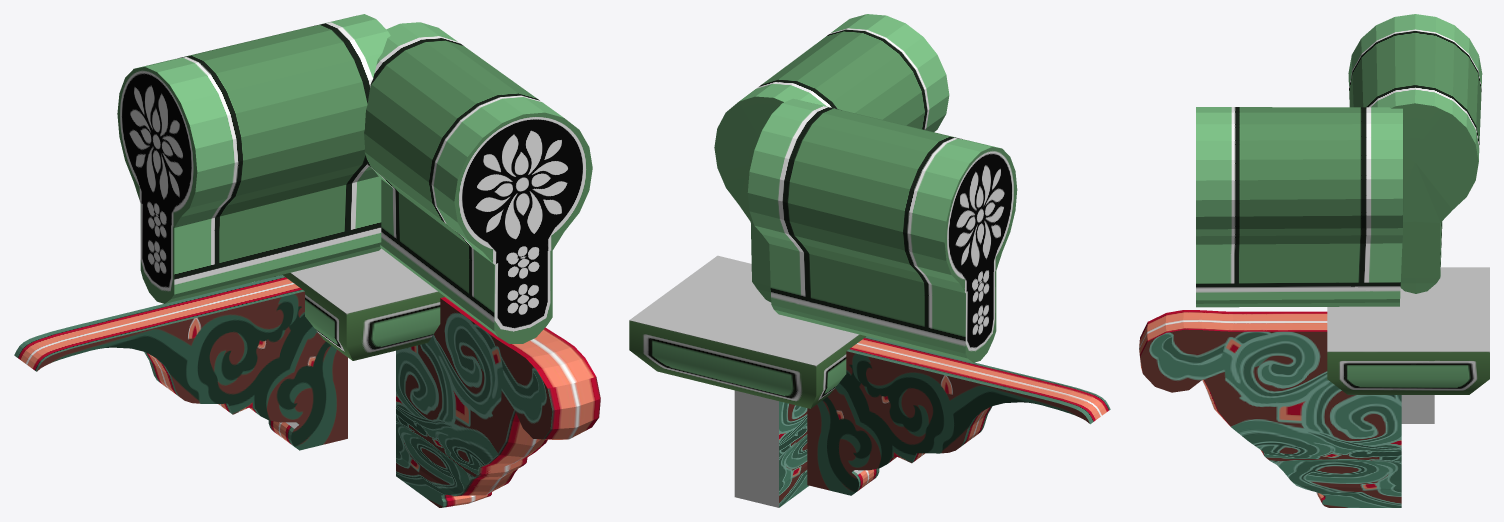
The model's file is SM_R_DancheongCorner_9.fbx.
The picture shows the model from 3 angles, left to right: view 1: azimuth 30°, elevation 25°; view 2: azimuth 150°, elevation 25°; view 3: azimuth 270°, elevation 25°; orthographic projection. The views are drawn at different scales.
Visible parts, largest first — view 1: SM_R_DancheongCorner_9_LOD0; view 2: SM_R_DancheongCorner_9_LOD0; view 3: SM_R_DancheongCorner_9_LOD0.
Boxes of the visible parts, x1,y1,x2,y2 form: SM_R_DancheongCorner_9_LOD0: (14,14,600,507); SM_R_DancheongCorner_9_LOD0: (629,14,1110,507); SM_R_DancheongCorner_9_LOD0: (1139,14,1489,507).
Bounding box in the file's own units: 112 × 85.84 × 103.
